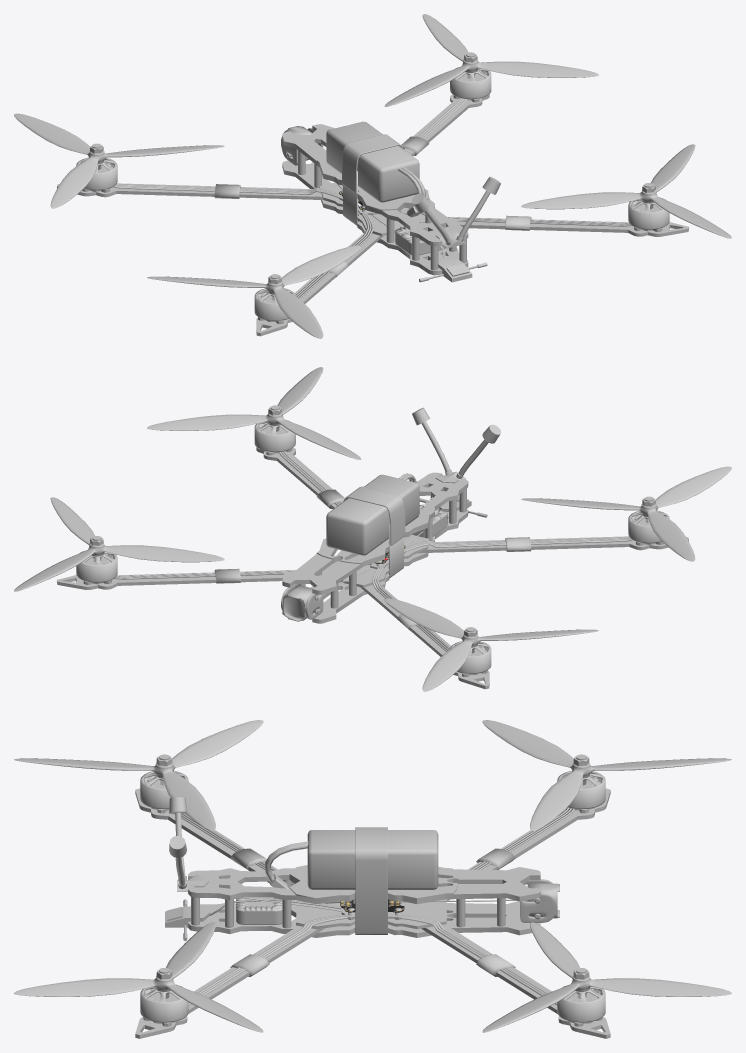
The model's file is FPV_5_1.fbx.
3 renders of one model, top to bottom at view 1: azimuth 30°, elevation 25°; view 2: azimuth 150°, elevation 25°; view 3: azimuth 270°, elevation 25°, orthographic. The views are drawn at different scales.
Visible parts, largest first — view 1: Motor_Top, Frame_Top, Electronics, Motor_Rotor; view 2: Motor_Top, Frame_Top, Electronics, Motor_Rotor; view 3: Frame_Top, Motor_Top, Electronics, Motor_Rotor.
Boxes of the visible parts, <box> form: Motor_Top: <box>14,14,731,338</box>; Frame_Top: <box>57,94,688,336</box>; Electronics: <box>113,98,631,298</box>; Motor_Rotor: <box>82,72,662,323</box>; Motor_Top: <box>14,367,731,691</box>; Frame_Top: <box>57,447,688,689</box>; Electronics: <box>114,407,632,651</box>; Motor_Rotor: <box>83,425,663,676</box>; Frame_Top: <box>135,788,610,1038</box>; Motor_Top: <box>14,720,731,1032</box>; Electronics: <box>169,797,574,1005</box>; Motor_Rotor: <box>143,777,602,1026</box>.
Size of the model in its own units: 508 by 80.74 by 494.
